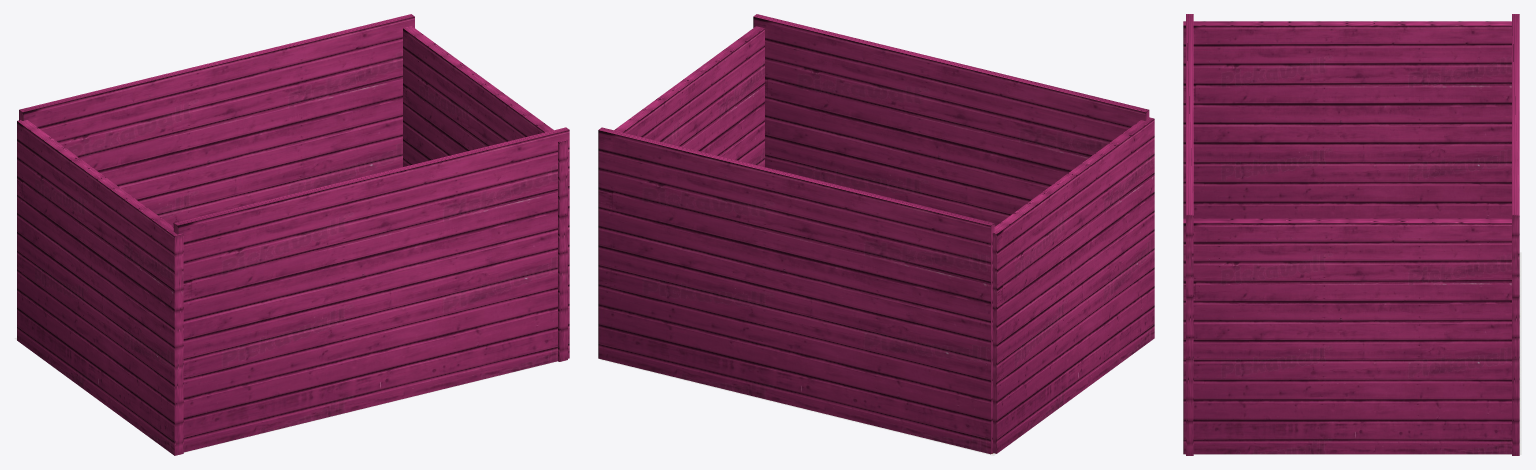
The picture shows the model from 3 angles, left to right: view 1: azimuth 30°, elevation 25°; view 2: azimuth 150°, elevation 25°; view 3: azimuth 270°, elevation 25°; orthographic projection. The views are drawn at different scales.
Visible parts, largest first — view 1: wall2, wall3, wall4, wall1; view 2: wall3, wall2, wall4, wall1, floor; view 3: wall1, wall4, wall3, wall2, floor.
Boxes of the visible parts, <box> form: wall2: <box>173,127,569,452</box>; wall3: <box>19,14,414,226</box>; wall4: <box>17,120,183,455</box>; wall1: <box>403,26,567,361</box>; wall3: <box>598,127,994,454</box>; wall2: <box>753,14,1149,226</box>; wall4: <box>992,117,1154,453</box>; wall1: <box>614,26,764,166</box>; floor: <box>600,359,995,455</box>; wall1: <box>1183,218,1511,454</box>; wall4: <box>1183,21,1511,218</box>; wall3: <box>1512,14,1519,455</box>; wall2: <box>1186,14,1193,455</box>; floor: <box>1185,252,1521,454</box>.
Bounding box in the file's own units: 9.06 × 5.23 × 6.36.
